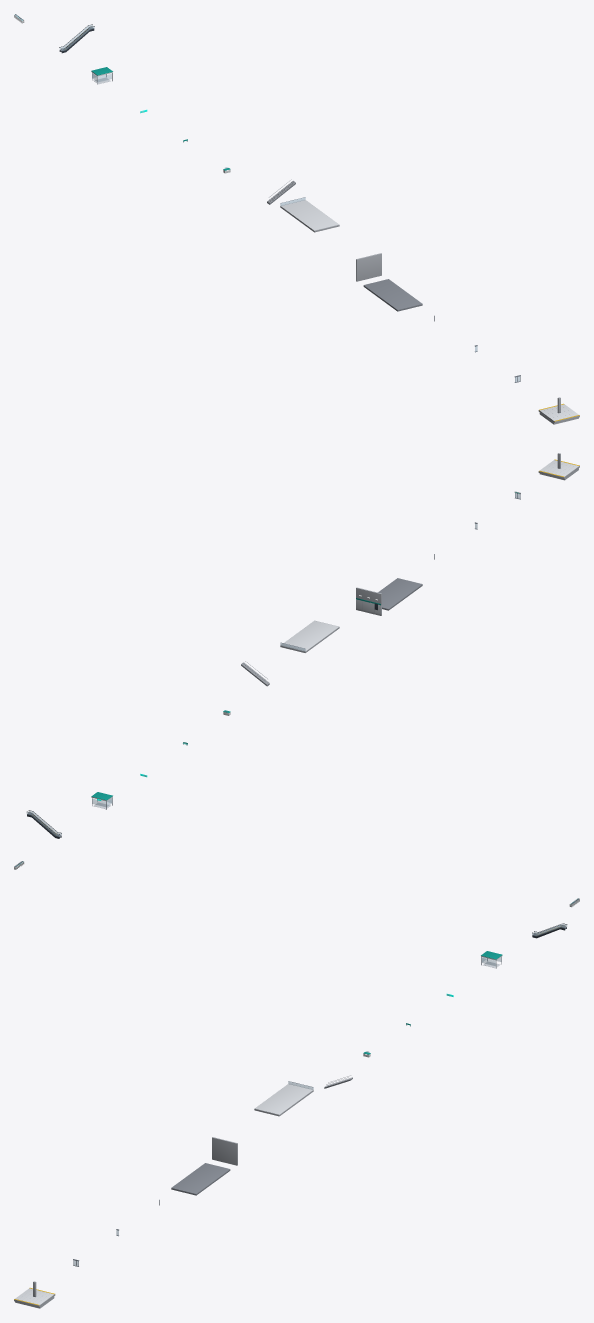
The model's file is station.glb.
3 renders of one model, top to bottom at view 1: azimuth 30°, elevation 25°; view 2: azimuth 150°, elevation 25°; view 3: azimuth 330°, elevation 25°, orthographic.
Parts seen in each view (by area): view 1: Mezzanine_Module, Station_Floor, Station_Wall, Station_Module; view 2: Mezzanine_Module, Station_Floor, Station_Wall, Station_Module; view 3: Mezzanine_Module, Station_Floor, Station_Wall, Station_Module.
Boxes of the visible parts, box(x1,y1,x2,y2) form: Mezzanine_Module: box(280, 197, 339, 232); Station_Floor: box(363, 279, 422, 311); Station_Wall: box(356, 253, 381, 281); Station_Module: box(538, 397, 579, 424); Mezzanine_Module: box(280, 620, 339, 652); Station_Floor: box(378, 578, 422, 610); Station_Wall: box(356, 587, 381, 615); Station_Module: box(538, 453, 579, 480); Mezzanine_Module: box(254, 1081, 313, 1116); Station_Floor: box(171, 1163, 230, 1195); Station_Wall: box(212, 1137, 237, 1165); Station_Module: box(14, 1281, 55, 1308).
Size of the model in its own units: 17.75 by 8.46 by 372.
